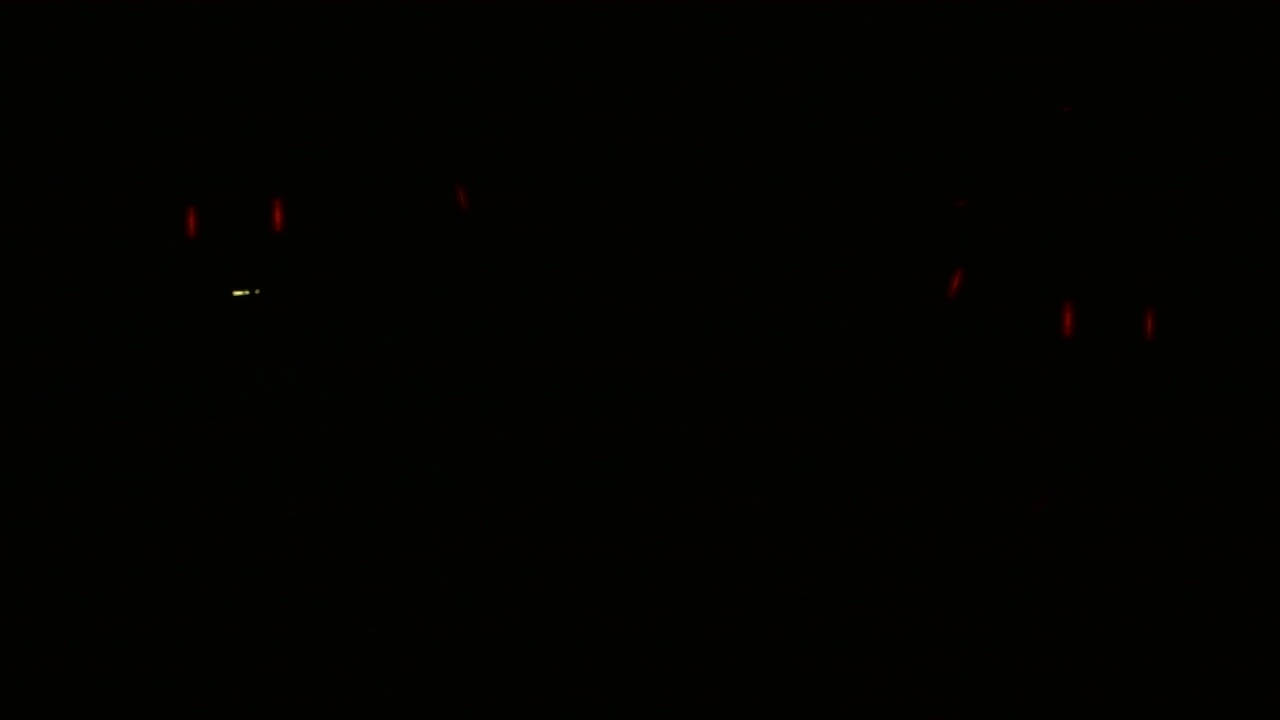pair1: (1058, 295, 1157, 341), (176, 199, 295, 234)
